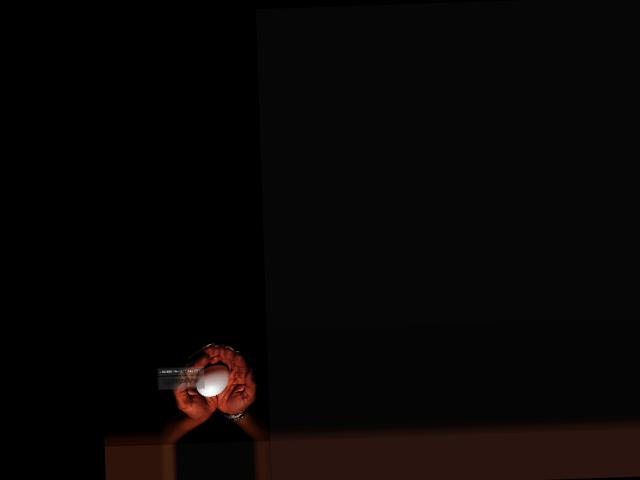egg: (195, 363, 230, 397)
